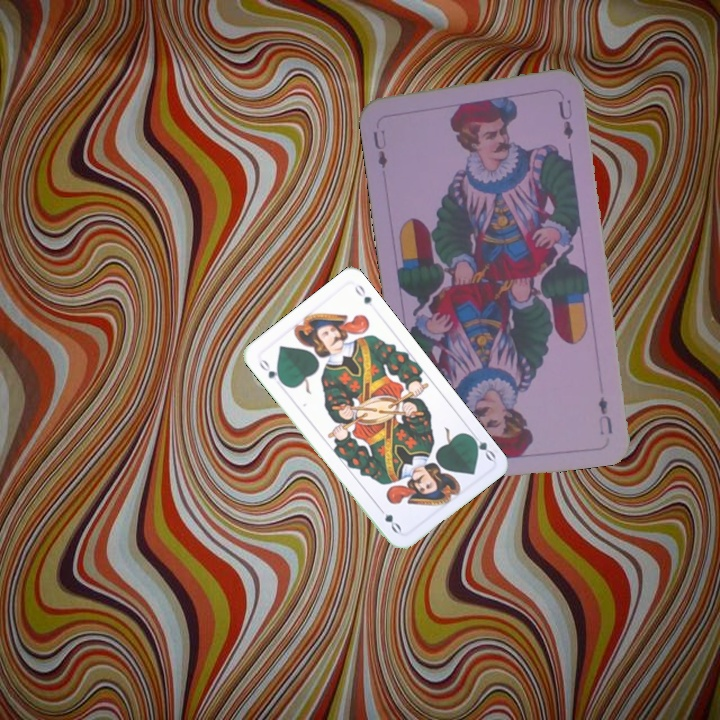EU: (594, 392, 615, 438), (369, 126, 390, 170)
GO: (465, 428, 498, 463), (255, 355, 286, 387)
